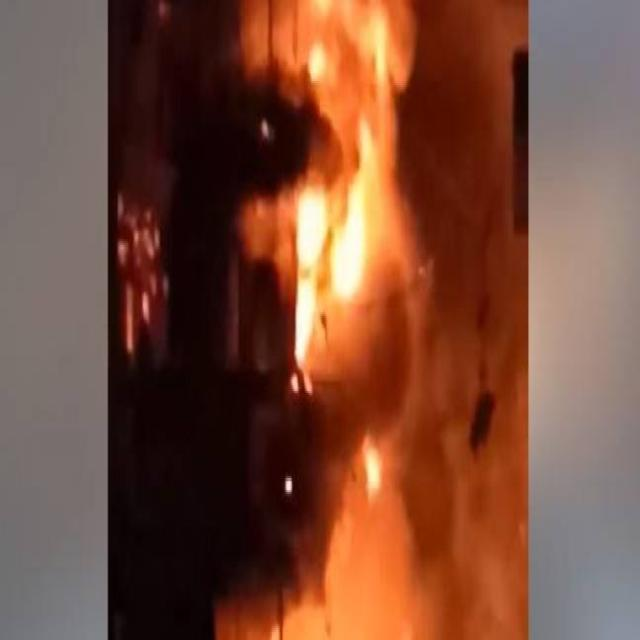fire: (223, 0, 423, 486)
